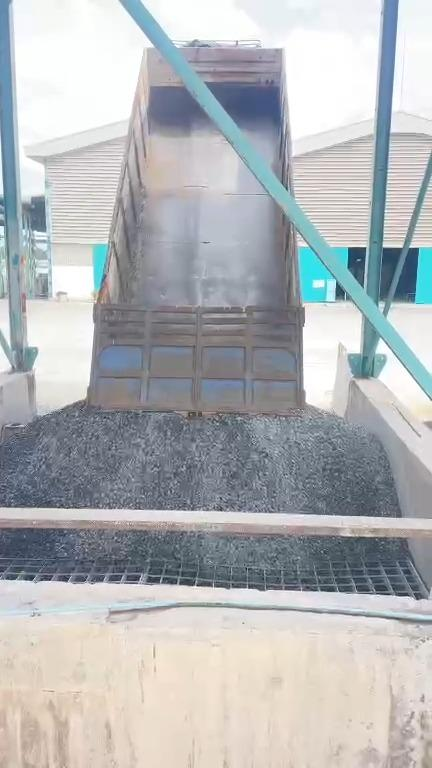gravel: (0, 403, 398, 515), (1, 531, 402, 564)
